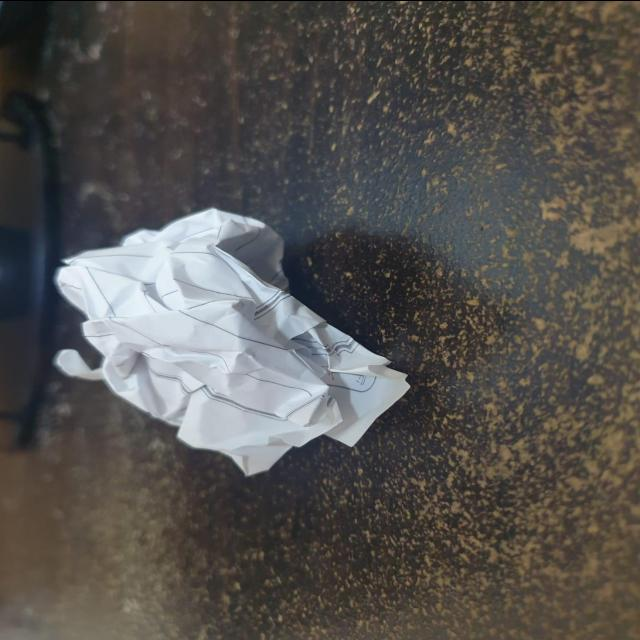kertas: (49, 195, 418, 481)
